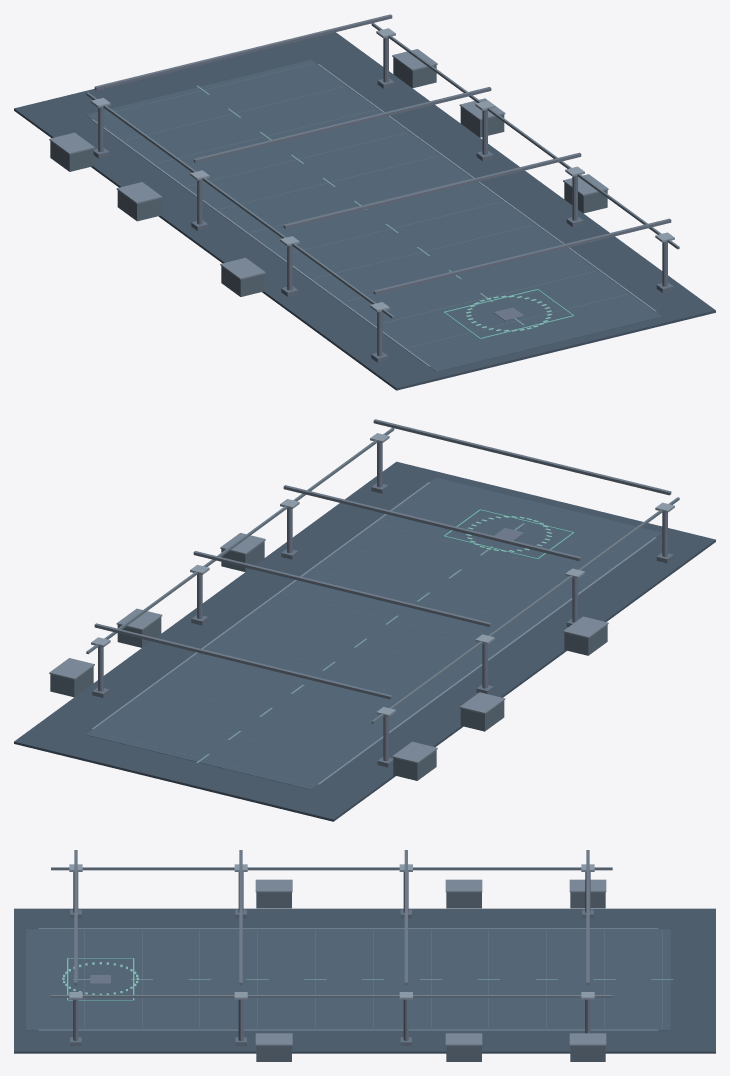
The model's file is academy-course.glb.
The picture shows the model from 3 angles, top to bottom: view 1: azimuth 30°, elevation 25°; view 2: azimuth 150°, elevation 25°; view 3: azimuth 270°, elevation 25°; orthographic projection. The views are drawn at different scales.
Parts seen in each view (by area): view 1: runway-inset-001, runway-foundation-000, ceiling-brace-089, ceiling-brace-090, ceiling-brace-091, ceiling-brace-092, upper-rail-075, upper-rail-088, runway-edge-002, runway-edge-003, cargo-bay-095, cargo-bay-097 (+5 smaller); view 2: runway-inset-001, runway-foundation-000, ceiling-brace-089, ceiling-brace-090, ceiling-brace-091, ceiling-brace-092, upper-rail-075, upper-rail-088, runway-edge-002, runway-edge-003, cargo-bay-095, cargo-bay-103 (+4 smaller); view 3: runway-inset-001, runway-foundation-000, upper-rail-075, upper-rail-088, runway-edge-002, runway-edge-003, cargo-bay-093, cargo-bay-095, cargo-bay-099, cargo-bay-101, cargo-bay-103, ceiling-brace-089 (+10 smaller).
Boxes of the visible parts, box(x1,y1,x2,y2) form: runway-inset-001: box(86, 59, 662, 371); runway-foundation-000: box(14, 32, 715, 390); ceiling-brace-089: box(373, 218, 671, 294); ceiling-brace-090: box(283, 152, 581, 228); ceiling-brace-091: box(193, 87, 491, 162); ceiling-brace-092: box(94, 14, 392, 90); upper-rail-075: box(86, 92, 394, 318); upper-rail-088: box(371, 23, 679, 249); runway-edge-002: box(91, 119, 430, 366); runway-edge-003: box(317, 64, 656, 311); cargo-bay-095: box(117, 190, 161, 221); cargo-bay-097: box(50, 141, 93, 171); runway-inset-001: box(85, 477, 661, 789); runway-foundation-000: box(14, 461, 715, 821); ceiling-brace-089: box(373, 419, 671, 495); ceiling-brace-090: box(283, 485, 581, 561); ceiling-brace-091: box(193, 551, 491, 626); ceiling-brace-092: box(94, 623, 392, 699); upper-rail-075: box(371, 497, 679, 723); upper-rail-088: box(86, 428, 394, 654); runway-edge-002: box(317, 537, 656, 784); runway-edge-003: box(91, 482, 430, 729); cargo-bay-095: box(460, 701, 504, 731); cargo-bay-103: box(50, 666, 93, 697); runway-inset-001: box(26, 929, 670, 1030); runway-foundation-000: box(14, 908, 715, 1053); upper-rail-075: box(51, 867, 612, 870); upper-rail-088: box(51, 995, 612, 997); runway-edge-002: box(38, 928, 658, 929); runway-edge-003: box(38, 1029, 658, 1030); cargo-bay-093: box(256, 892, 291, 908); cargo-bay-095: box(446, 892, 481, 908); cargo-bay-099: box(256, 1046, 291, 1061); cargo-bay-101: box(446, 1046, 481, 1061); cargo-bay-103: box(570, 1046, 605, 1061); ceiling-brace-089: box(74, 850, 77, 985).
Bounding box in the file's own units: 47.28 × 8.79 × 85.
